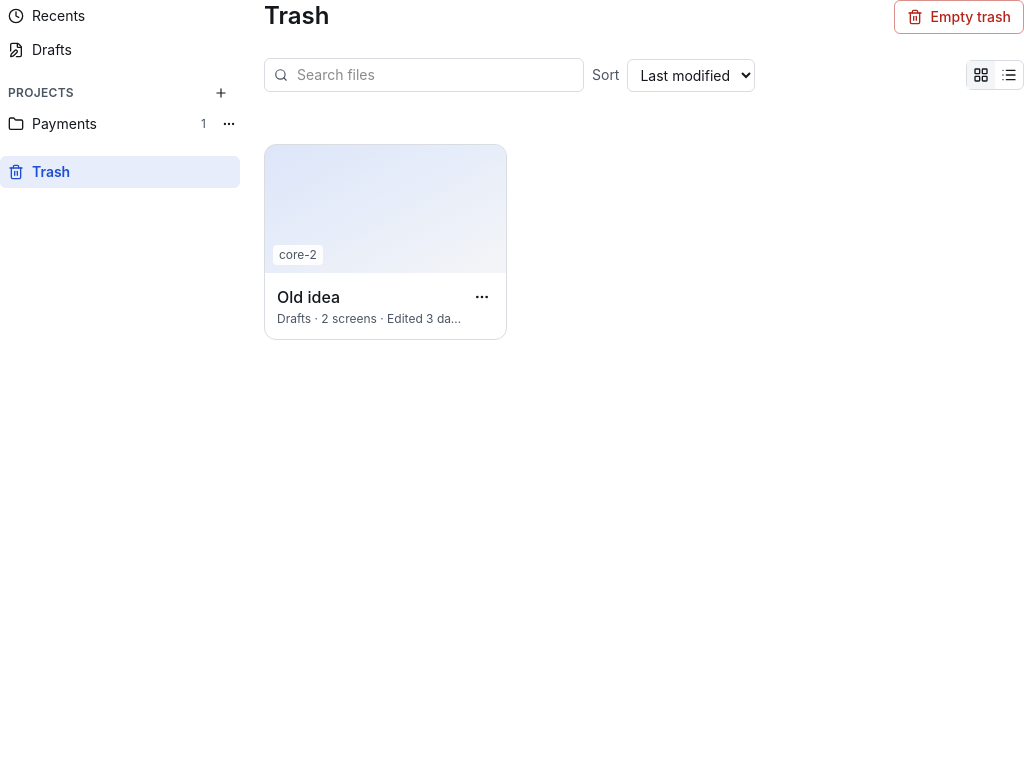
Scenario: file browser › lets team admins delete a file forever or empty Trash, after confirmation
Step 1. Click the button named "Actions for Old idea" → (482, 297), box [470,285,494,309]
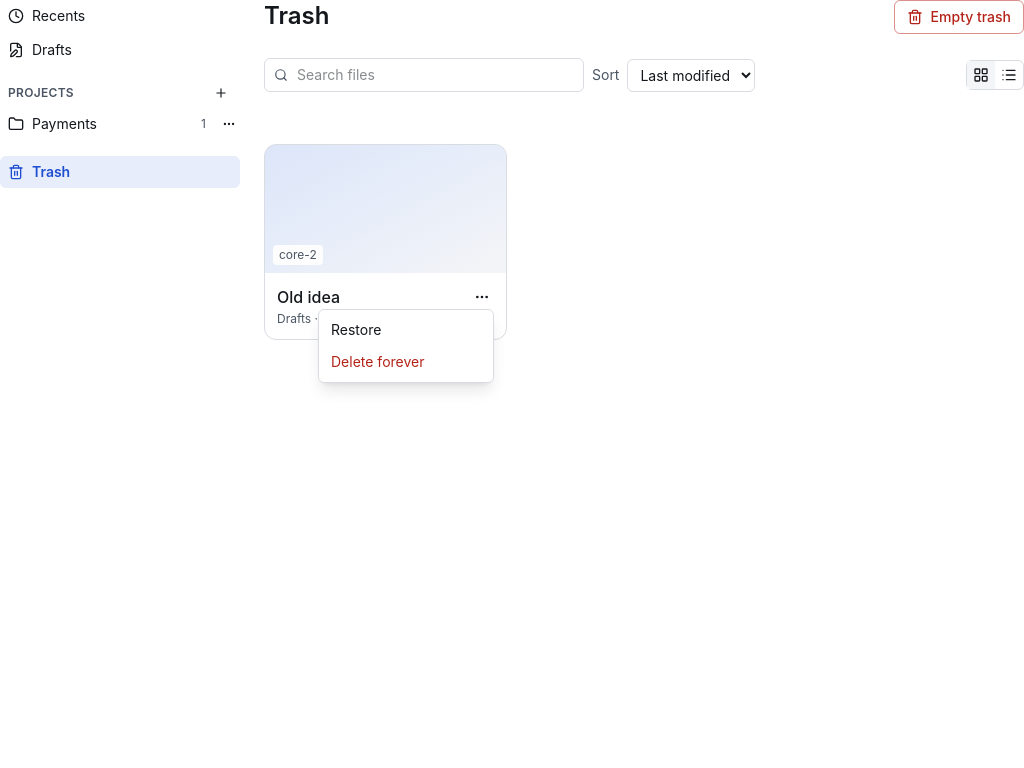
Expected: the menu items read "Restore", "Delete forever", in this order
Step 2. Click the menu item "Delete forever" → (378, 362), box [331,353,424,370]
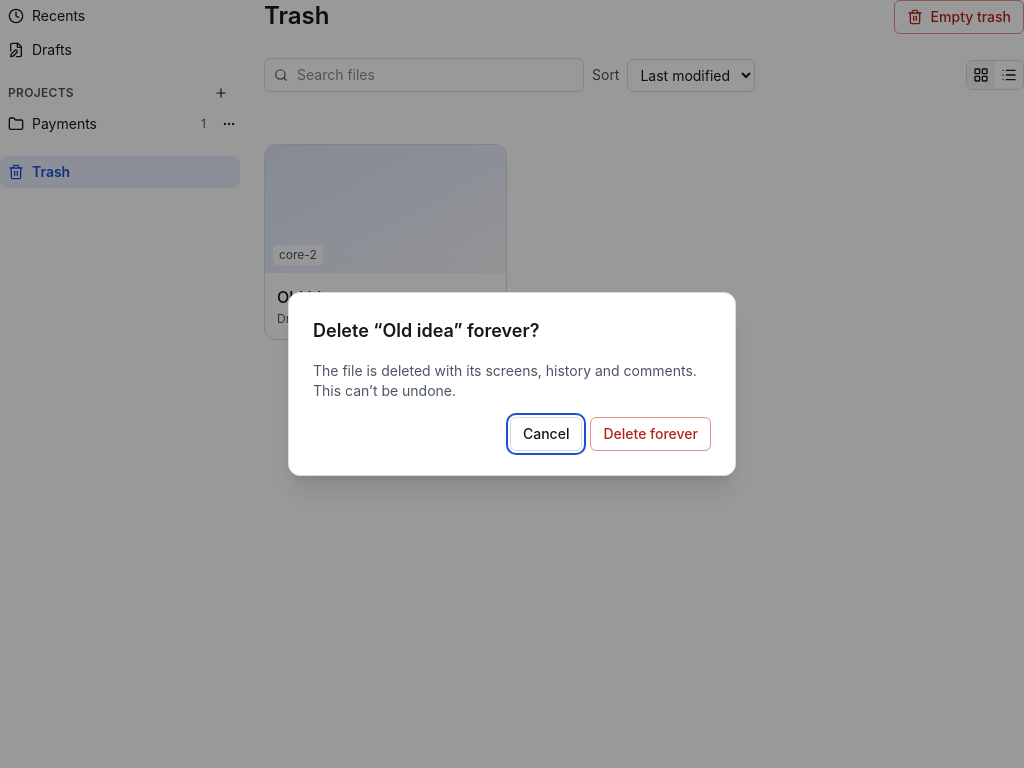
Expected: the dialog "Delete “Old idea” forever?" shows "This can’t be undone.", [313,382,456,399]
Step 3. Click the button "Delete forever" → (651, 434), box [590,417,711,451]
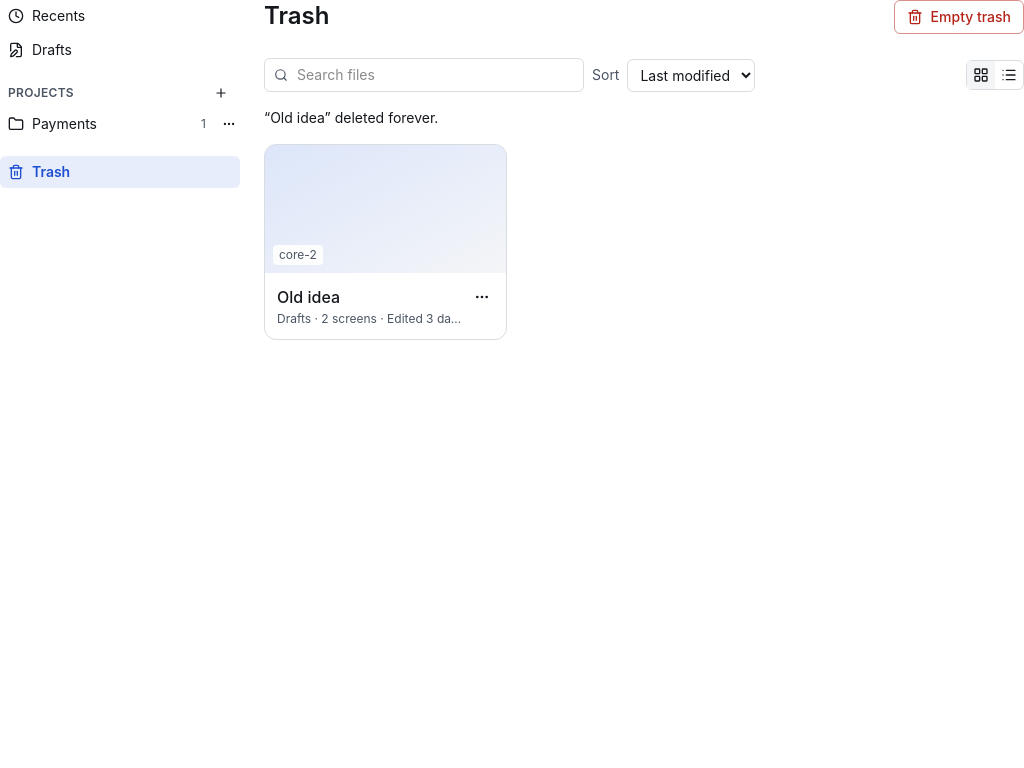
Expected: the text "“Old idea” deleted forever." is shown, [264,109,438,126]
Step 4. Click the button "Empty trash" → (959, 17), box [894,0,1023,34]
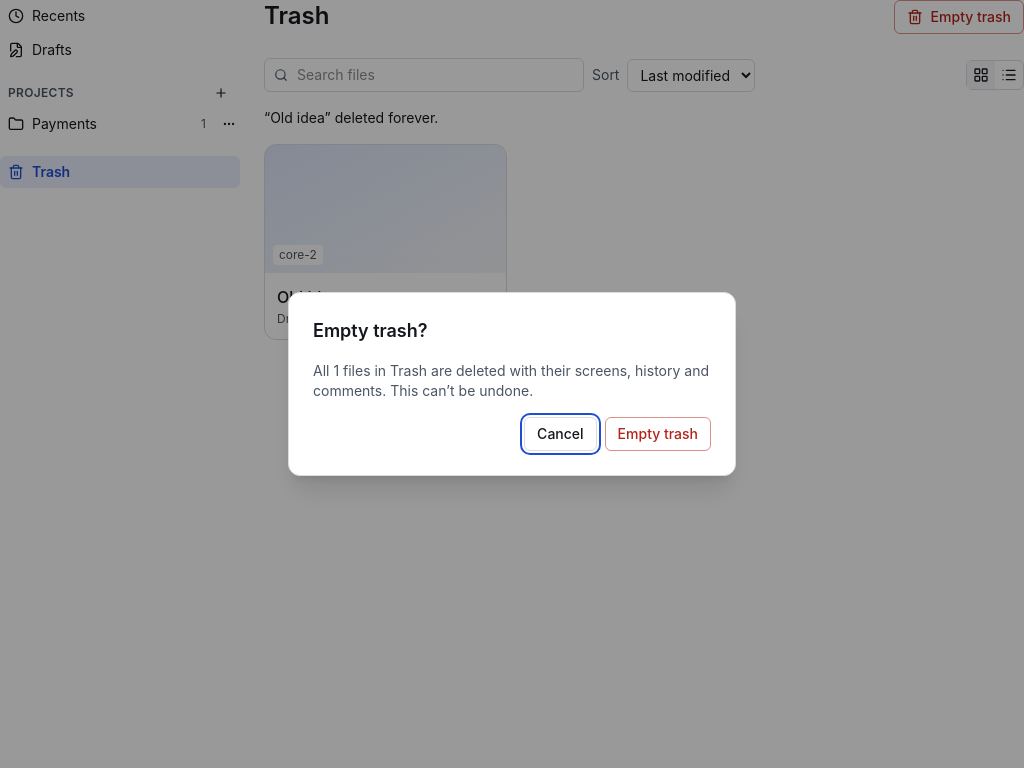
Step 5. Click the button "Empty trash" → (658, 434), box [605,417,711,451]
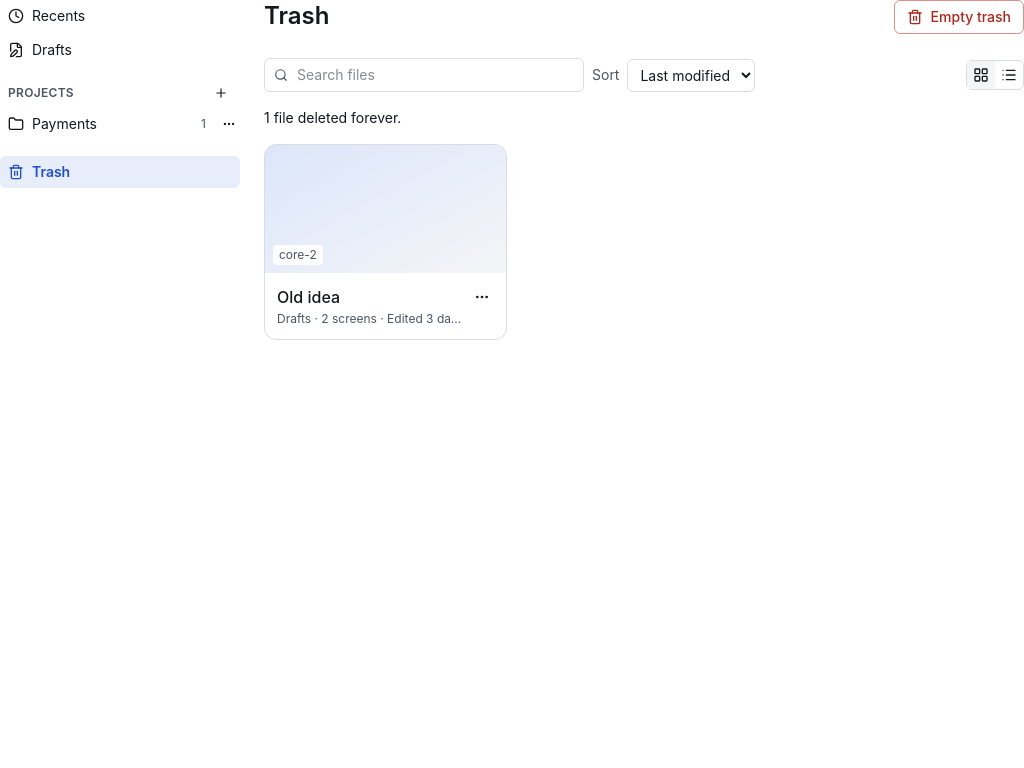
Expected: the text "1 file deleted forever." is shown, [264,109,401,126]
